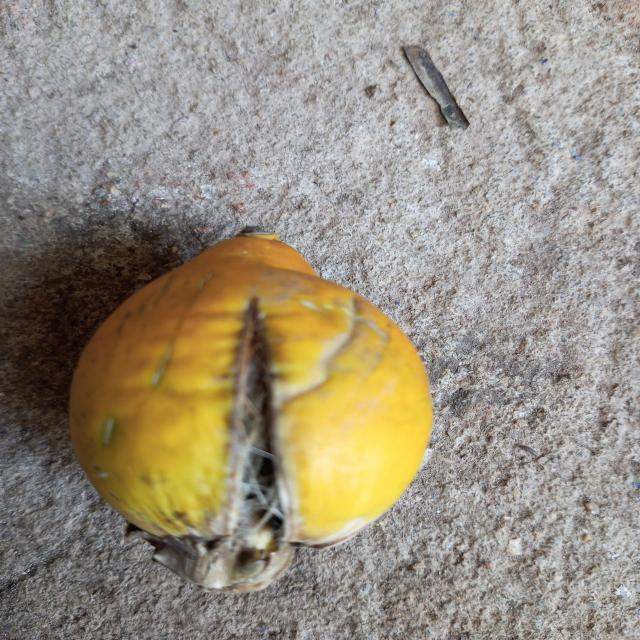damaged: (68, 232, 434, 595)
